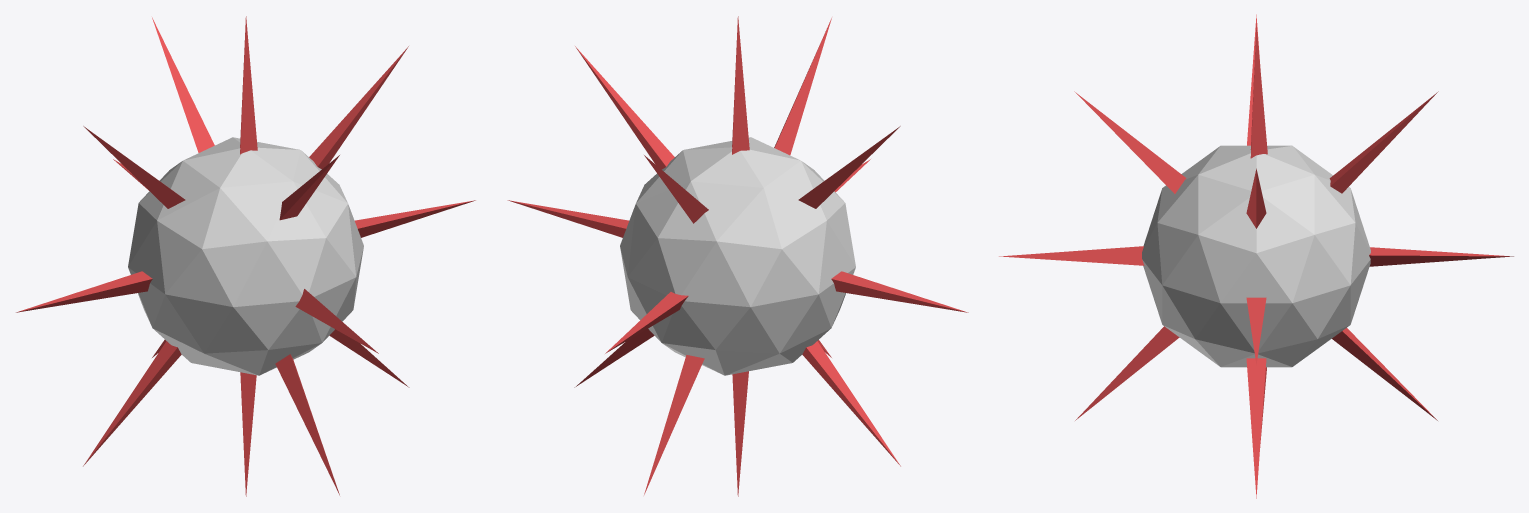
The model's file is mine.fbx.
3 views of the same model, side by side, from view 1: azimuth 30°, elevation 25°; view 2: azimuth 150°, elevation 25°; view 3: azimuth 270°, elevation 25° (orthographic). The views are drawn at different scales.
Visible parts, largest first — view 1: Icosphere, Cone.012, Cone.016, Cone.011, Cone.010, Cone.005, Cone.002, Cone.014, Cone.013, Cone, Cone.008, Cone.009 (+1 smaller); view 2: Icosphere, Cone.012, Cone.016, Cone.011, Cone.003, Cone.009, Cone.002, Cone.014, Cone.013, Cone, Cone.001, Cone.005 (+1 smaller); view 3: Icosphere, Cone.001, Cone.008, Cone.005, Cone.015, Cone.009, Cone.010, Cone.003, Cone.002, Cone.014, Cone.016.
Boxes of the visible parts, x1,y1,x2,y2 form: Icosphere: (128,137,363,375); Cone.012: (83,341,181,466); Cone.016: (309,46,408,169); Cone.011: (16,271,152,312); Cone.010: (275,354,339,495); Cone.005: (152,17,214,152); Cone.002: (240,16,257,154); Cone.014: (355,200,475,237); Cone.013: (83,126,185,208); Cone: (240,372,256,496); Cone.008: (295,289,378,353); Cone.009: (279,155,339,220); Icosphere: (620,137,855,375); Cone.012: (802,341,900,466); Cone.016: (575,46,674,169); Cone.011: (831,271,968,312); Cone.003: (644,355,704,494); Cone.009: (774,18,831,155); Cone.002: (732,16,749,154); Cone.014: (507,200,628,237); Cone.013: (798,126,900,208); Cone: (732,371,748,496); Cone.001: (605,292,688,353); Cone.005: (644,155,708,223); Icosphere: (1142,145,1370,367); Cone.001: (1369,247,1513,266); Cone.008: (999,246,1144,265); Cone.005: (1329,91,1438,193); Cone.015: (1246,358,1266,498); Cone.009: (1074,91,1186,193); Cone.010: (1075,326,1179,420); Cone.003: (1332,328,1437,420); Cone.002: (1250,23,1267,158); Cone.014: (1246,297,1266,364); Cone.016: (1246,168,1266,228).
Bounding box in the file's own units: 887 × 887 × 887.
